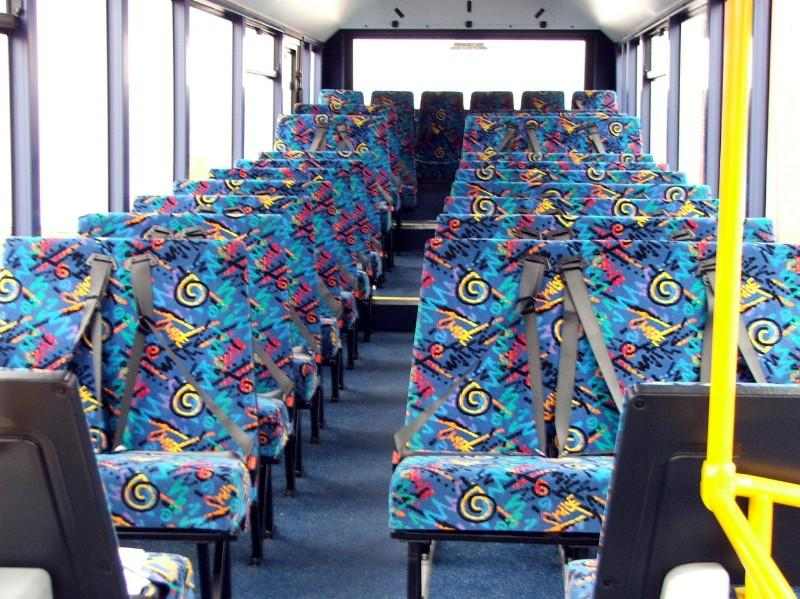fire: (692, 357, 800, 594)
